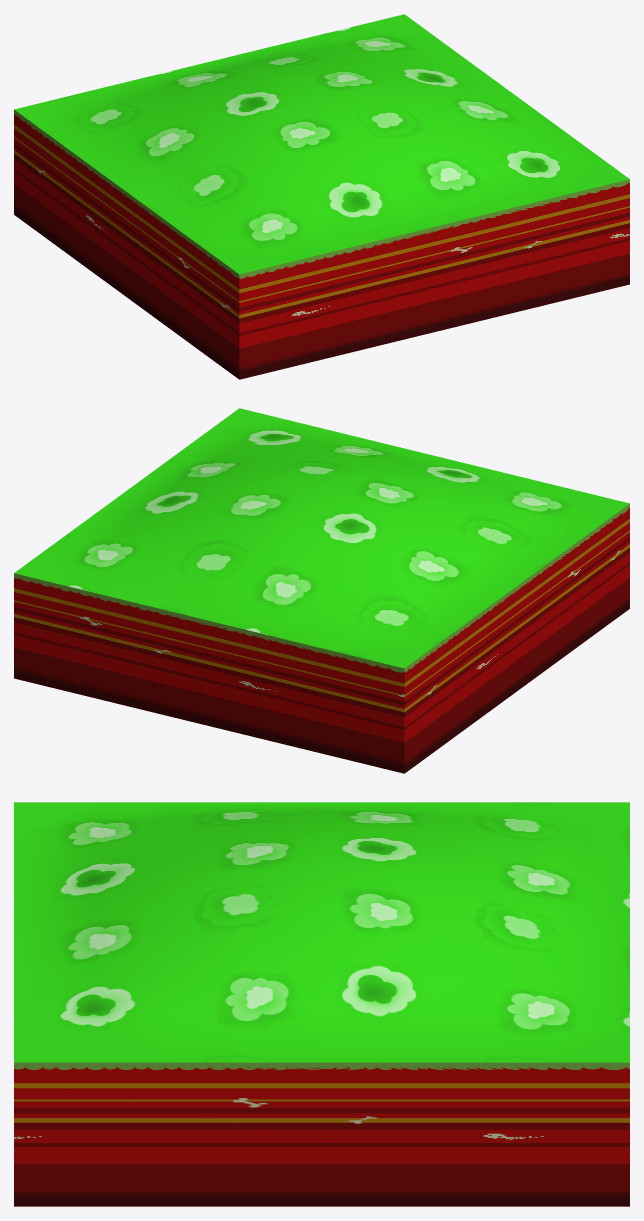
The model's file is block_rect_curved_4x4.obj.
3 views of the same model, one above another, from view 1: azimuth 30°, elevation 25°; view 2: azimuth 150°, elevation 25°; view 3: azimuth 270°, elevation 25° (orthographic). The views are drawn at different scales.
Visible parts, largest first — view 1: polySurface5 polySurface7, polySurface5 polySurface8, polySurface6 polySurface5; view 2: polySurface5 polySurface7, polySurface5 polySurface8, polySurface6 polySurface5; view 3: polySurface5 polySurface7, polySurface5 polySurface8, polySurface6 polySurface5.
Boxes of the visible parts, x1,y1,x2,y2 form: polySurface5 polySurface7: [14, 14, 629, 274]; polySurface5 polySurface8: [14, 120, 629, 379]; polySurface6 polySurface5: [14, 110, 629, 284]; polySurface5 polySurface7: [14, 408, 629, 668]; polySurface5 polySurface8: [14, 514, 629, 773]; polySurface6 polySurface5: [14, 504, 629, 678]; polySurface5 polySurface7: [14, 802, 629, 1062]; polySurface5 polySurface8: [14, 1077, 629, 1206]; polySurface6 polySurface5: [14, 1062, 629, 1076].
Bounding box in the file's own units: 800 × 293 × 800.
